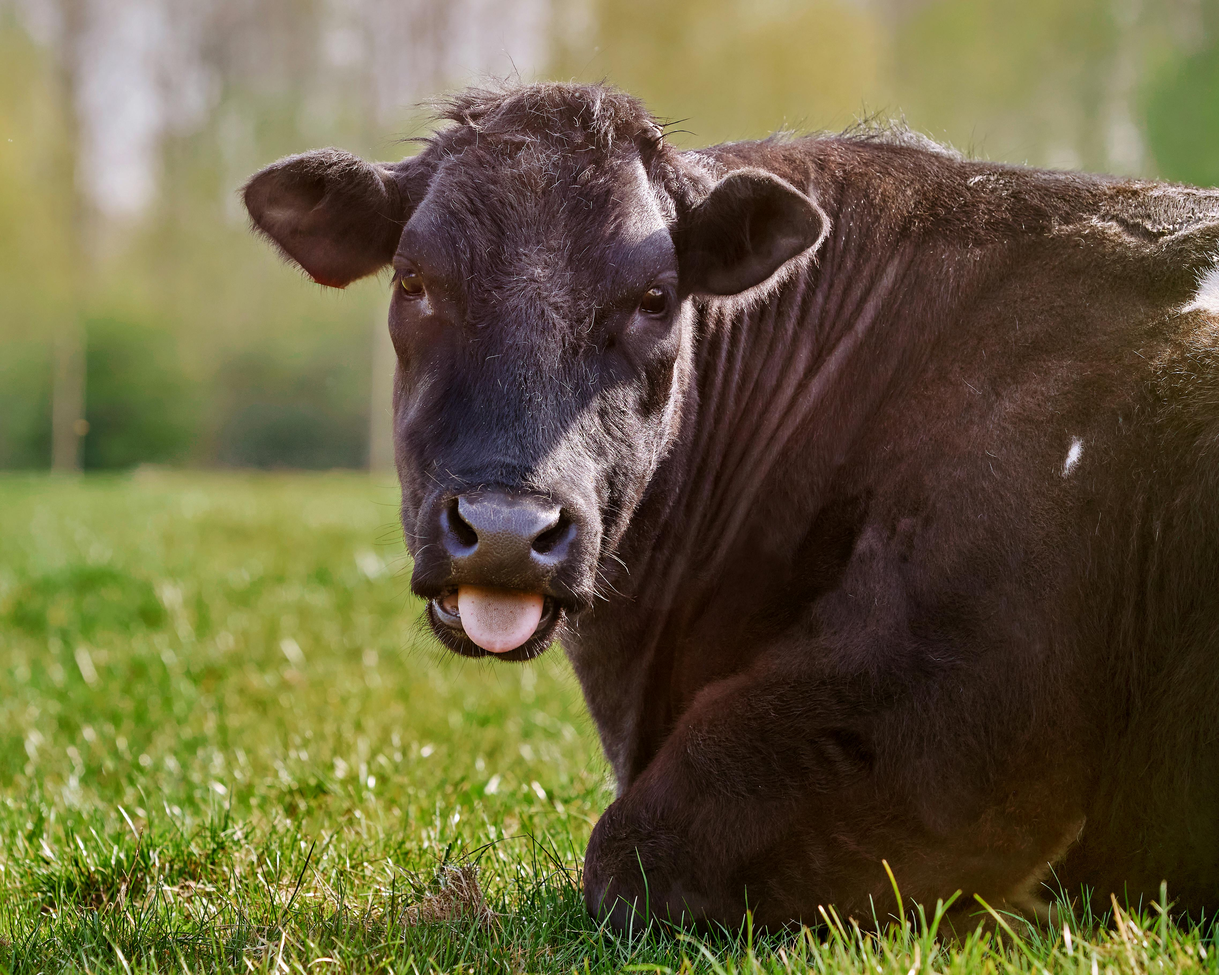bovino: (253, 80, 1219, 938)
